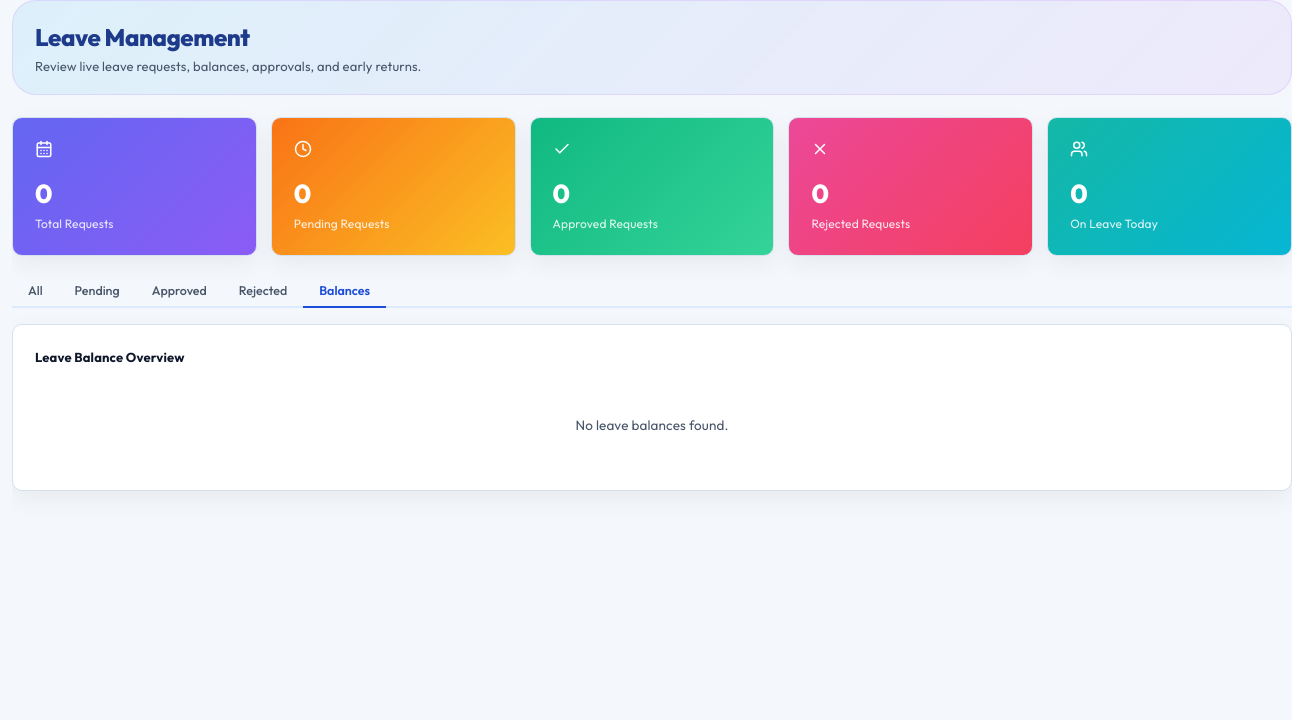
Test: Leave › splits approved leaves into upcoming and completed sections
Click the button "Approved": (179, 291) [136,274,223,308]
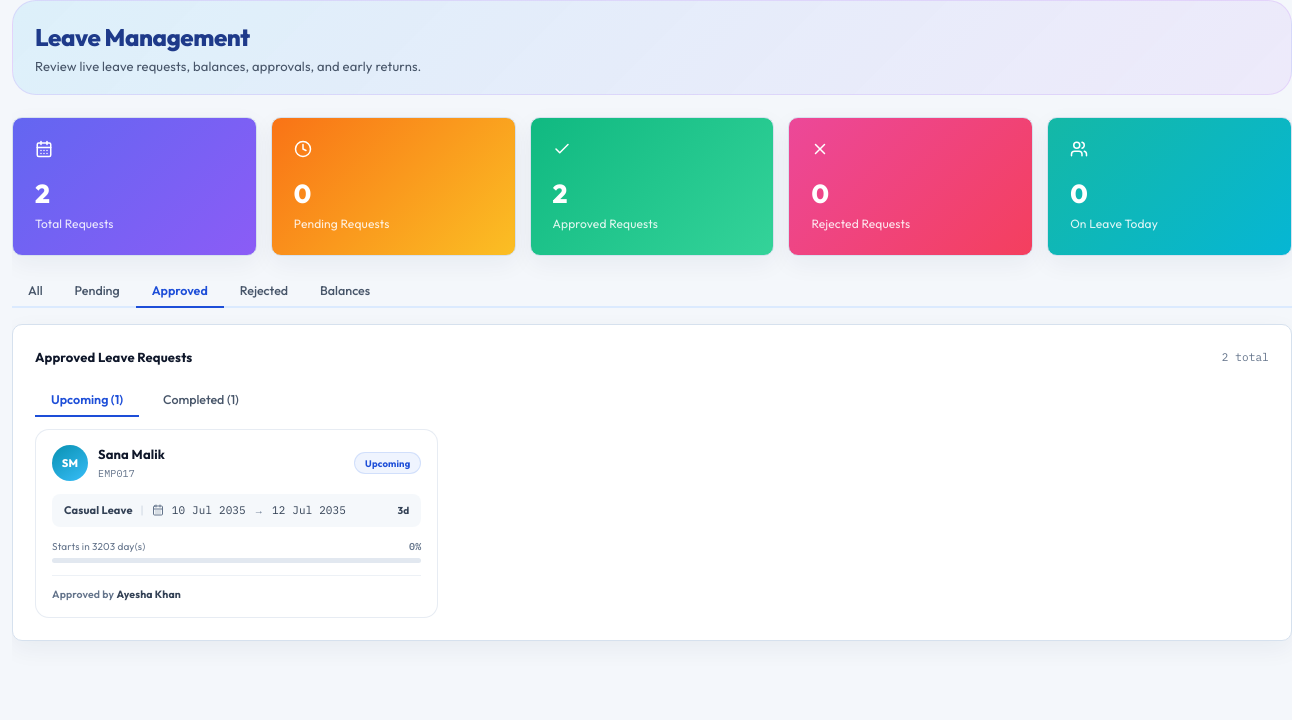
Now the button "Upcoming (1)" is shown, box [35,383,139,417]
Now the button "Completed (1)" is shown
Now the text "Sana Malik" is shown, box [98,446,165,462]
Click the button "Completed (1)": (201, 400) [147,383,255,417]
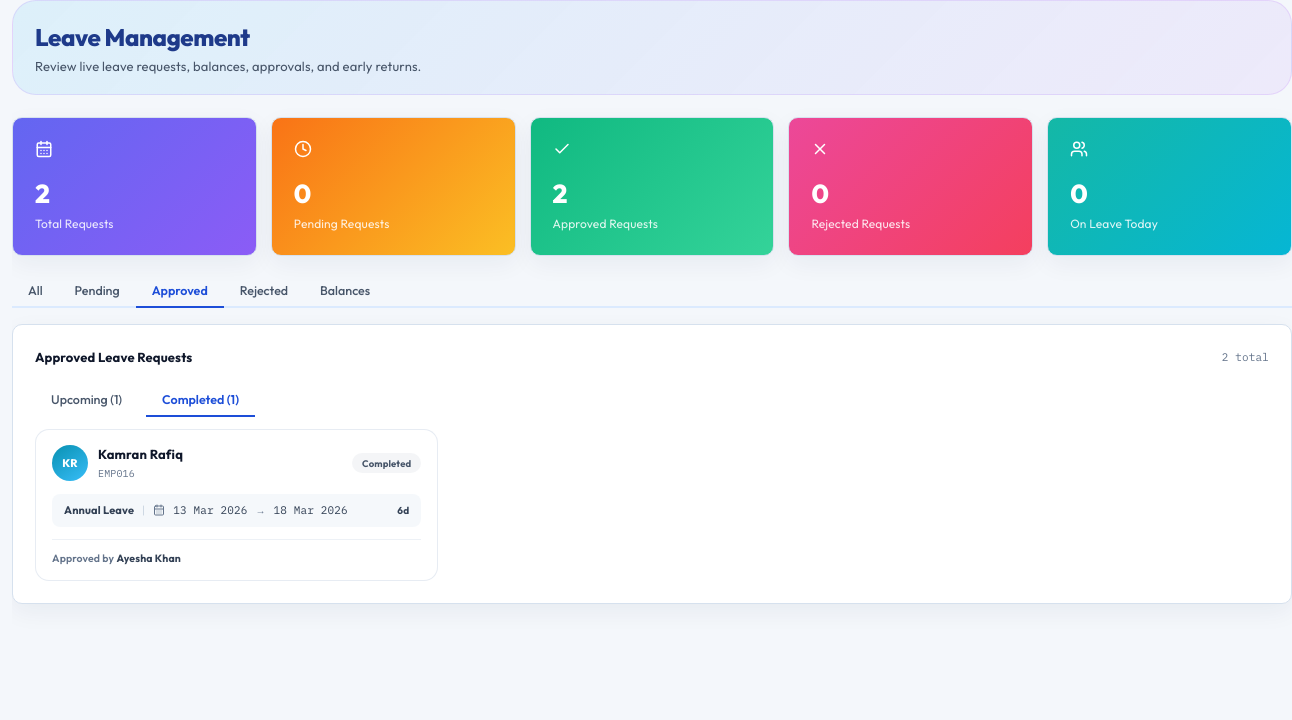
Now the text "Kamran Rafiq" is shown, box [98,446,183,462]
Now the text "Sana Malik" is gone
